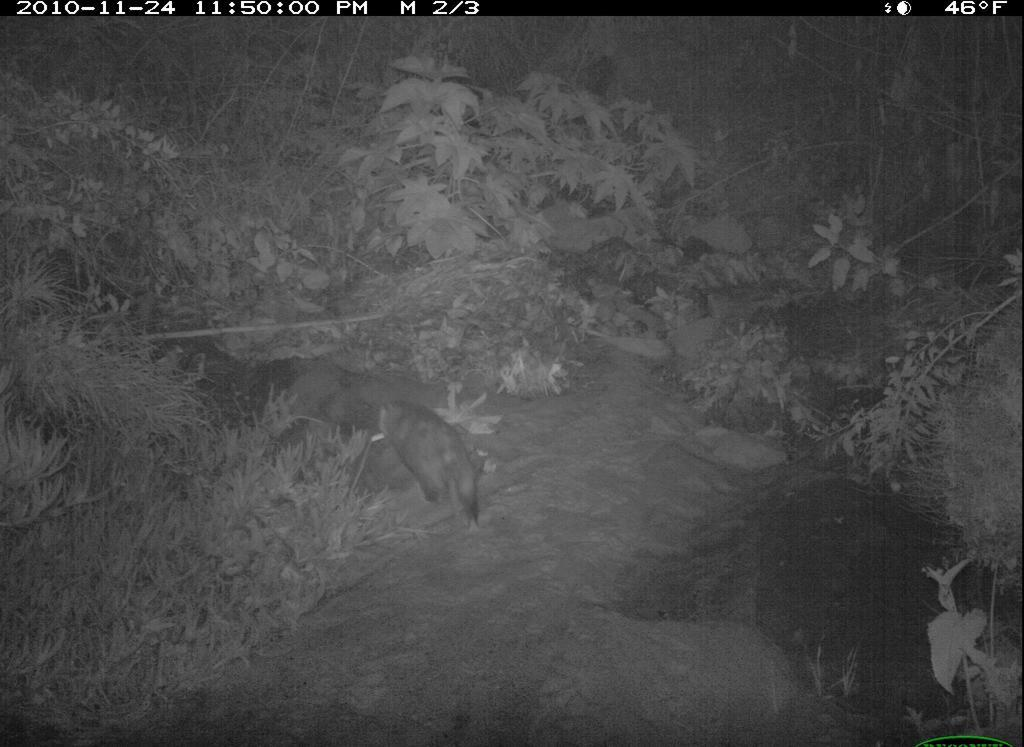opossum: (345, 385, 504, 543)
